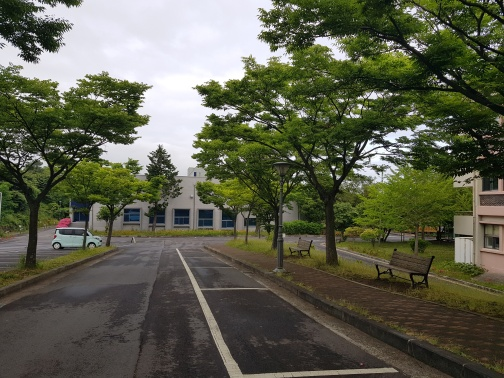College of Social Sciences: (70, 171, 289, 249)
